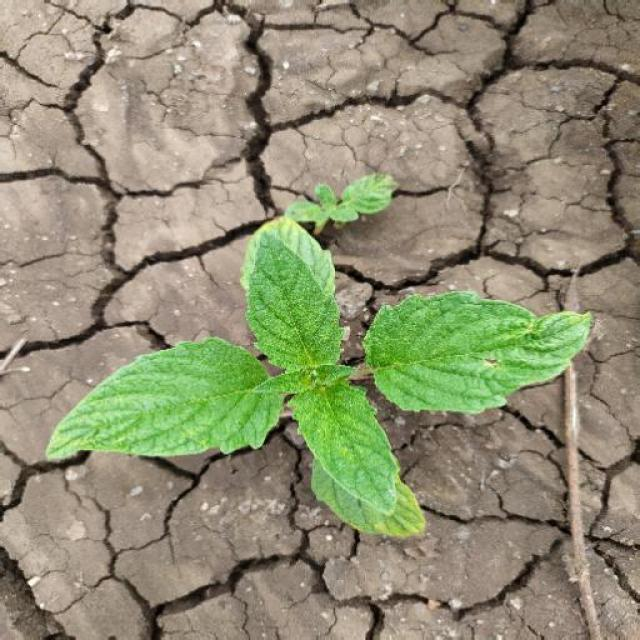crop: (44, 212, 592, 532)
